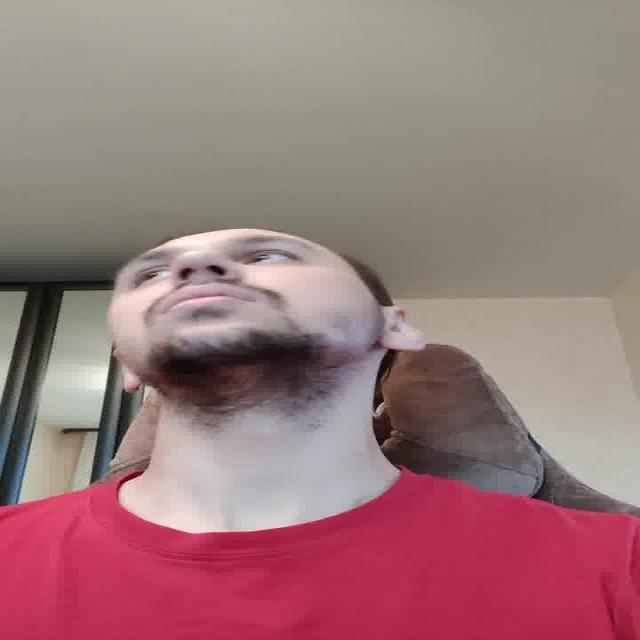earlobe: (382, 340, 427, 354), (120, 375, 145, 394)
eye: (243, 253, 301, 266), (135, 267, 169, 281)
nose: (170, 269, 245, 287)
wholeear: (379, 307, 425, 351)
